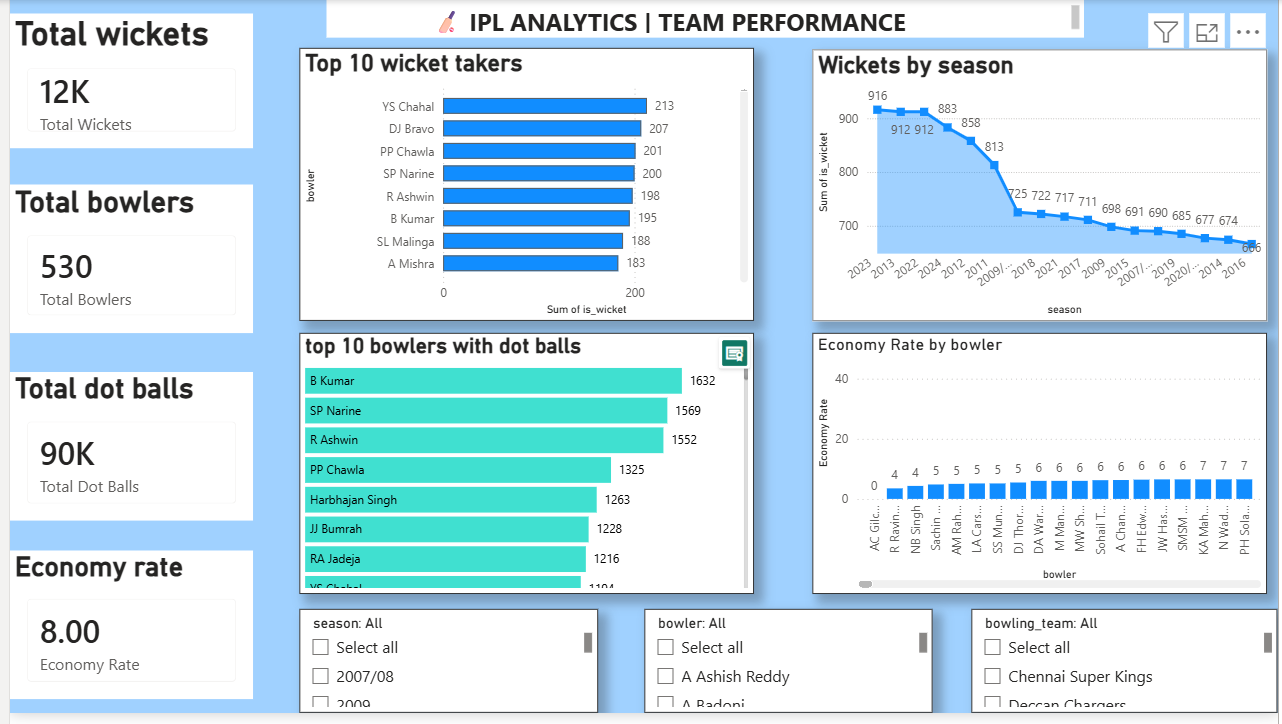

What the dashboard file says about the page in this screenshot:
{"tool":"powerbi","page":{"name":"Bowling dashboard","canvas":[1280,720],"ordinal":2},"visuals":[{"type":"cardVisual","title":"Total wickets","fields":{"Data":["deliveries.Total Wickets"]},"box":[0,13.6,245.3,136.3],"z":0},{"type":"cardVisual","title":"Total bowlers","fields":{"Data":["deliveries.Total Bowlers"]},"box":[0,186.2,245.3,149.9],"z":1000},{"type":"cardVisual","title":"Total dot balls","fields":{"Data":["deliveries.Total Dot Balls"]},"box":[0,375.5,245.3,149.9],"z":2000},{"type":"cardVisual","title":"Economy rate","fields":{"Data":["deliveries.Economy Rate"]},"box":[0,555,245,150],"z":3000},{"type":"clusteredBarChart","title":"Top 10 wicket takers","fields":{"Category":["deliveries.bowler"],"Y":["Sum(deliveries.is_wicket)"]},"box":[292.2,48.5,458.8,275.6],"z":4000},{"type":"lineChart","title":"Wickets by season","fields":{"Category":["matches.season"],"Y":["Sum(deliveries.is_wicket)"]},"box":[810.1,50,458.8,274.1],"z":5000},{"type":"horizontalBarChartPBICraft","title":"top 10 bowlers with dot balls","fields":{"category":["deliveries.bowler"],"measure":["deliveries.Total Dot Balls"]},"box":[292.2,336.2,458.8,263.5],"z":6000},{"type":"columnChart","fields":{"Category":["deliveries.bowler"],"Y":["deliveries.Economy Rate"]},"box":[810.1,336.2,458.8,263.5],"z":7000},{"type":"slicer","fields":{"Values":["matches.season"]},"box":[292.2,614.8,301.3,104.5],"z":8000},{"type":"slicer","fields":{"Values":["deliveries.bowler"]},"box":[640.5,614.8,290.7,104.5],"z":9000},{"type":"slicer","fields":{"Values":["deliveries.bowling_team"]},"box":[970.6,614.8,308.9,104.5],"z":10000},{"type":"textbox","box":[319.5,0,764.7,37.9],"z":10001}]}

Visuals, with their boxes in screenshot pixels (x1, y1, x2, y2), scaled from the page's 1280x720 canvas onto the 1282x724 screenshot:
"Total wickets" cardVisual: bbox=(0, 14, 246, 151)
"Total bowlers" cardVisual: bbox=(0, 187, 246, 338)
"Total dot balls" cardVisual: bbox=(0, 378, 246, 528)
"Economy rate" cardVisual: bbox=(0, 558, 245, 709)
"Top 10 wicket takers" clusteredBarChart: bbox=(293, 49, 752, 326)
"Wickets by season" lineChart: bbox=(811, 50, 1271, 326)
"top 10 bowlers with dot balls" horizontalBarChartPBICraft: bbox=(293, 338, 752, 603)
columnChart - deliveries.bowler x deliveries.Economy Rate: bbox=(811, 338, 1271, 603)
slicer - matches.season: bbox=(293, 618, 594, 723)
slicer - deliveries.bowler: bbox=(642, 618, 933, 723)
slicer - deliveries.bowling_team: bbox=(972, 618, 1281, 723)
textbox: bbox=(320, 0, 1086, 38)
